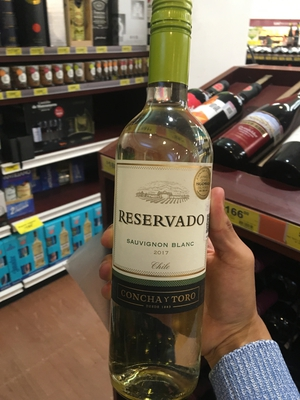reservado sauvignon blanc: (118, 4, 214, 399)
